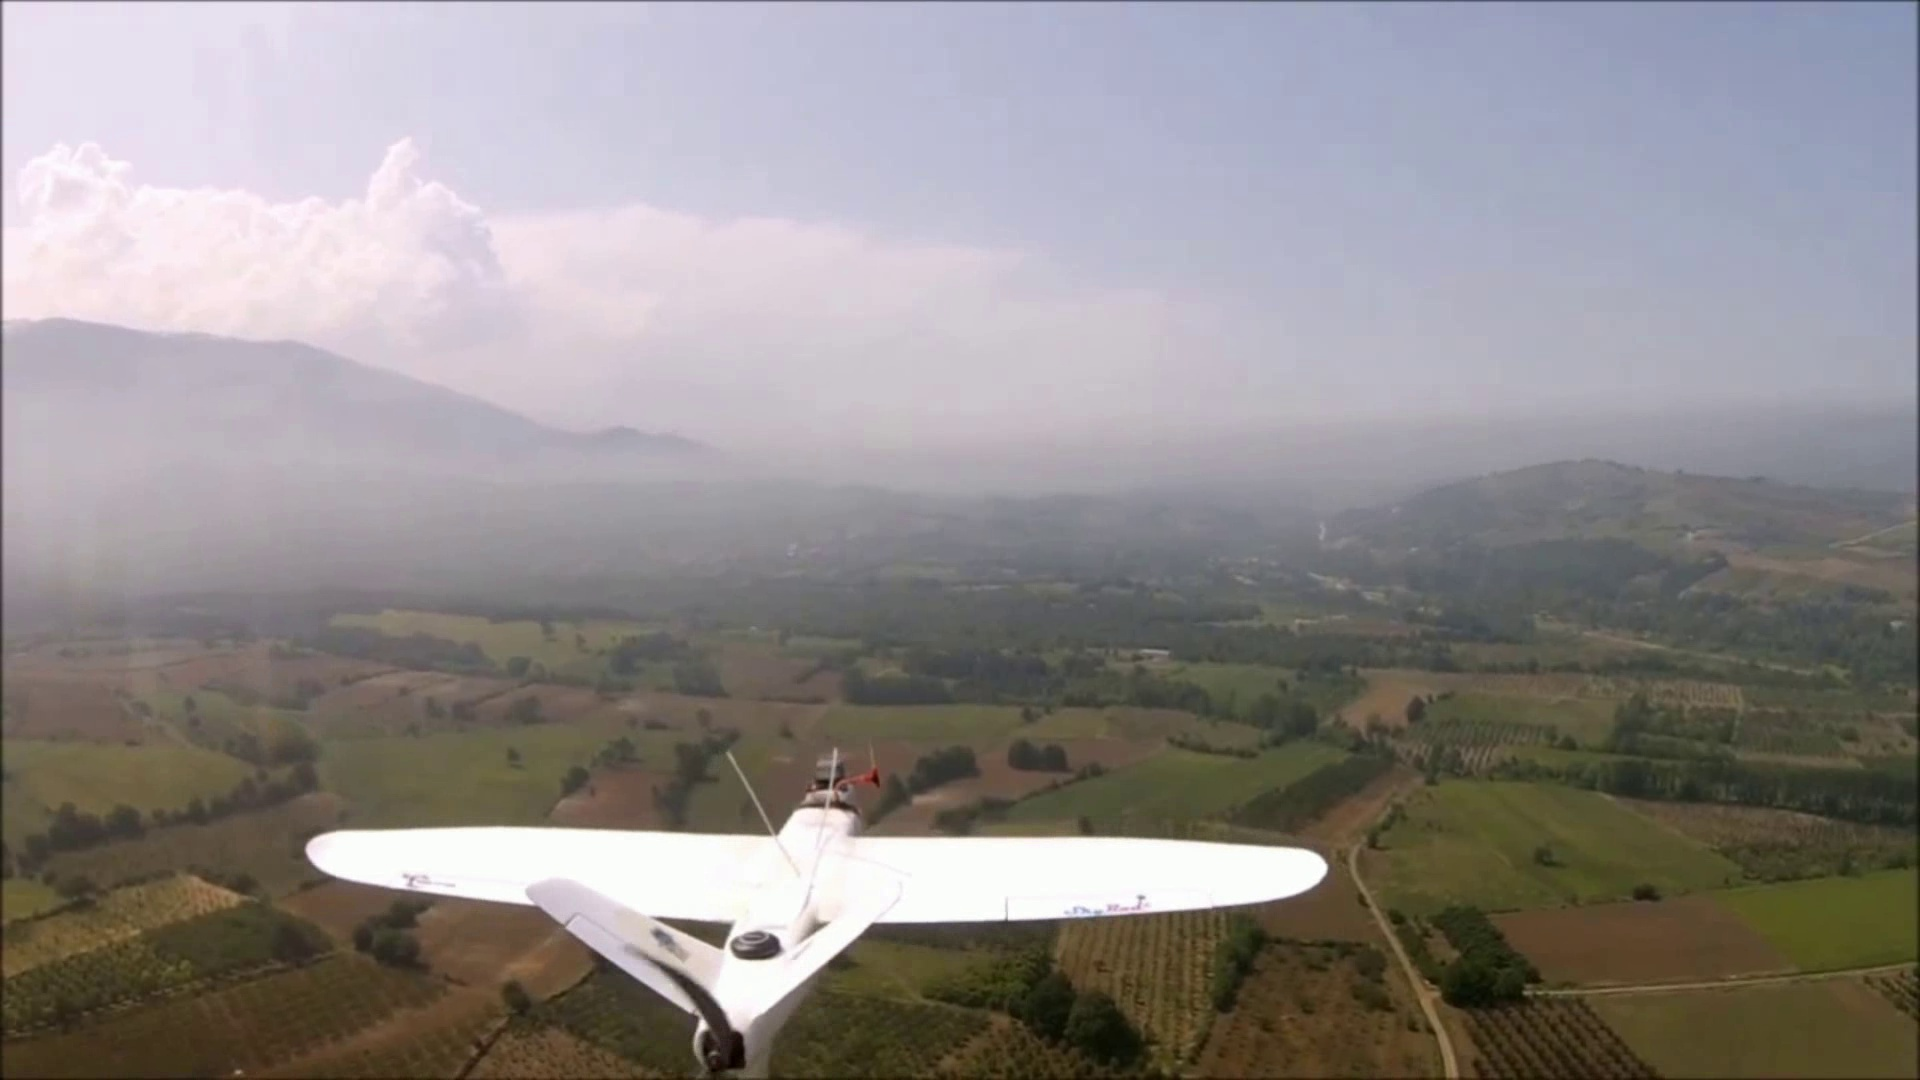airplane: (302, 815, 1327, 1071)
